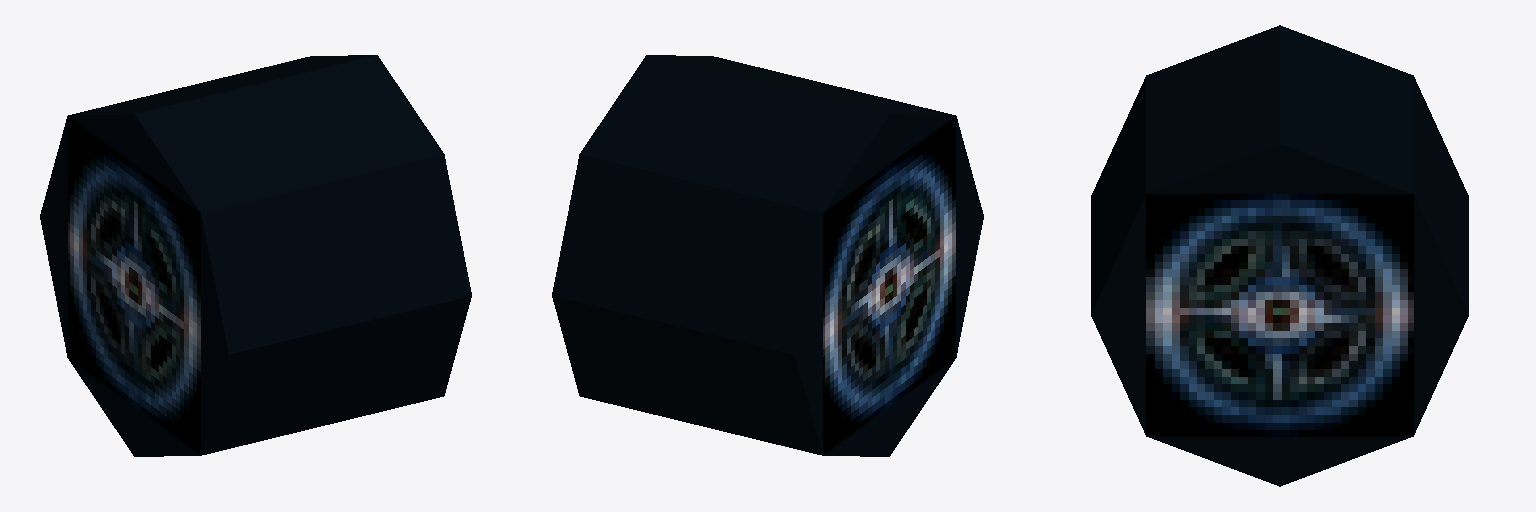
3 views of the same model, side by side, from view 1: azimuth 30°, elevation 25°; view 2: azimuth 150°, elevation 25°; view 3: azimuth 270°, elevation 25° (orthographic).
Visible parts, largest first — view 1: WheelRearL; view 2: WheelRearL; view 3: WheelRearL.
Boxes of the visible parts, x1=… form: WheelRearL: x1=40, y1=55, x2=471, y2=456; WheelRearL: x1=552, y1=55, x2=983, y2=456; WheelRearL: x1=1091, y1=25, x2=1468, y2=486.
Size of the model in its own units: 0.9162 by 1.23 by 1.23.
2 materials, 1 textured.